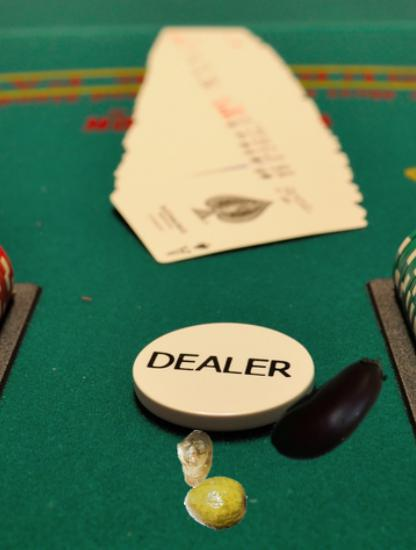Eggplant: (262, 340, 407, 485)
Ginger: (166, 430, 224, 488)
Guava: (184, 472, 248, 536)
